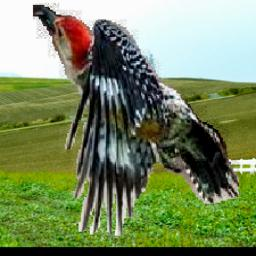Woodpecker: (34, 3, 240, 236)
